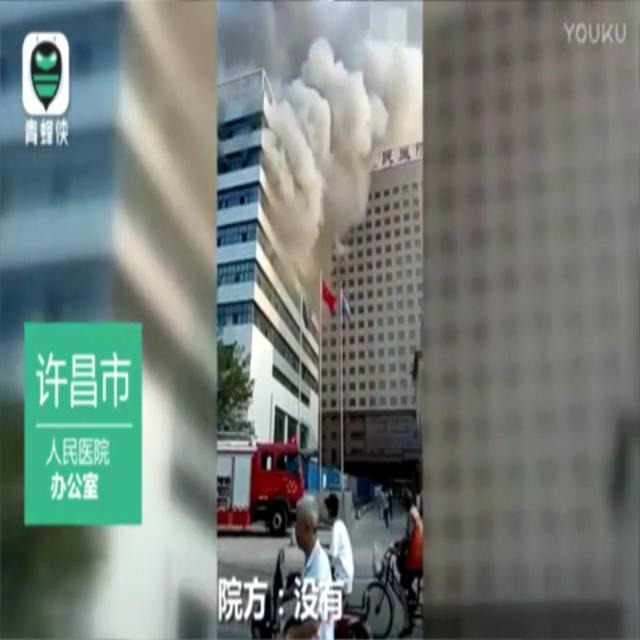Smoke: (218, 1, 422, 298)
